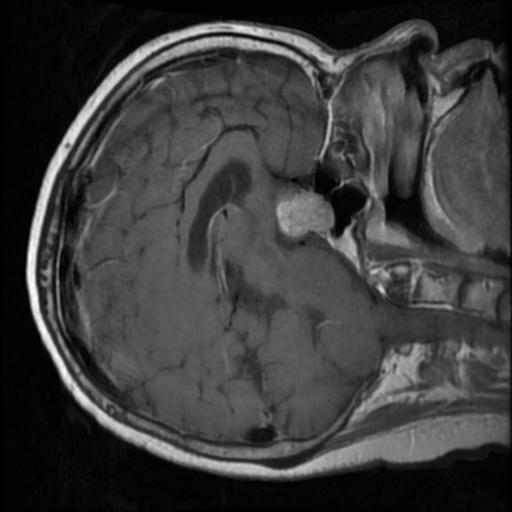pituitary tumour: (276, 188, 336, 236)
